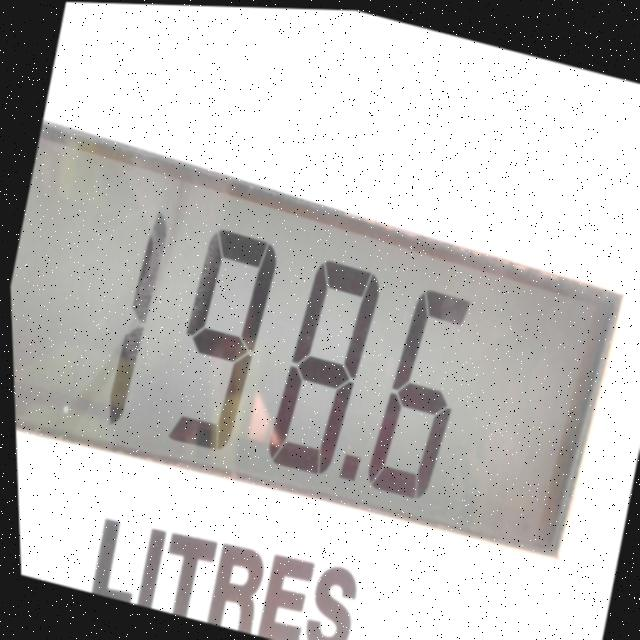.: (322, 438, 360, 500)
1: (74, 184, 192, 460)
6: (344, 254, 497, 530)
8: (234, 209, 394, 490)
9: (133, 204, 292, 471)
